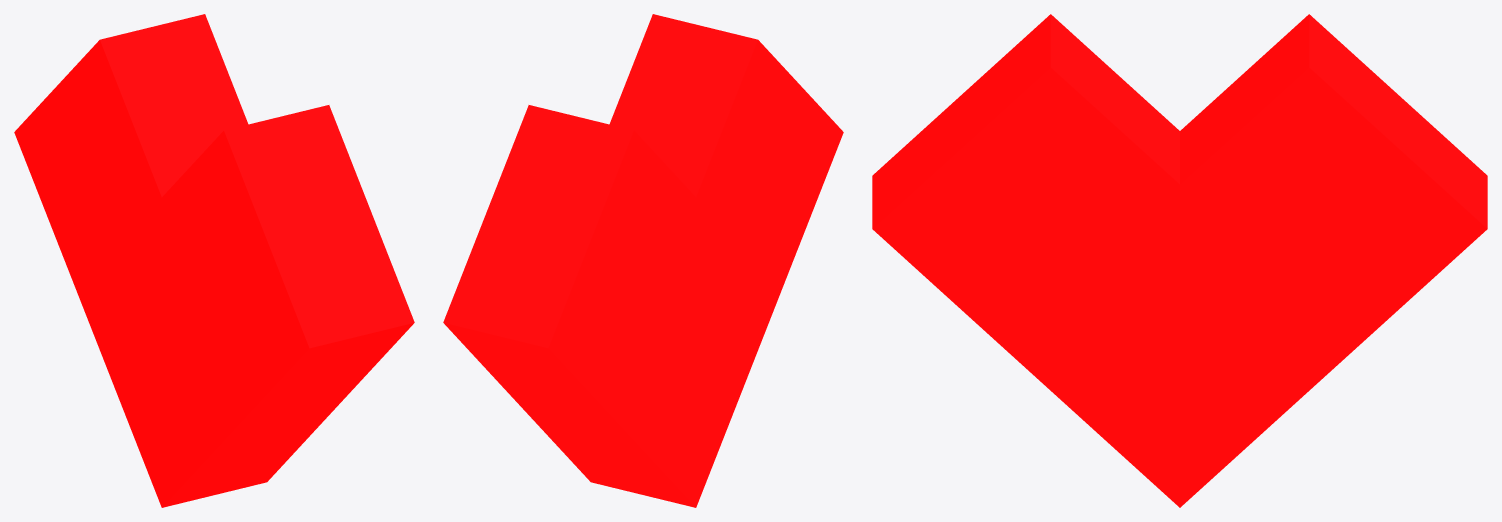
Rendered from SM_Heart.fbx.
The picture shows the model from 3 angles, left to right: view 1: azimuth 30°, elevation 25°; view 2: azimuth 150°, elevation 25°; view 3: azimuth 270°, elevation 25°; orthographic projection. The views are drawn at different scales.
Parts seen in each view (by area): view 1: Heart; view 2: Heart; view 3: Heart.
Part boxes in pixels (<box>): Heart: <box>14,14,414,507</box>; Heart: <box>443,14,843,507</box>; Heart: <box>872,14,1487,507</box>.
Size of the model in its own units: 100 by 385 by 488.
